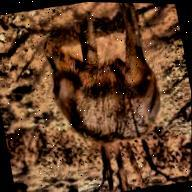boar: (29, 1, 178, 166)
